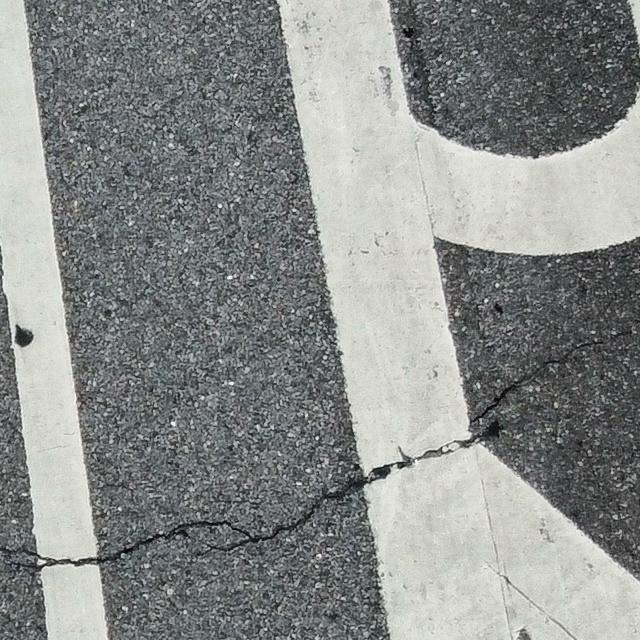TransverseCrack: (1, 332, 628, 572)
